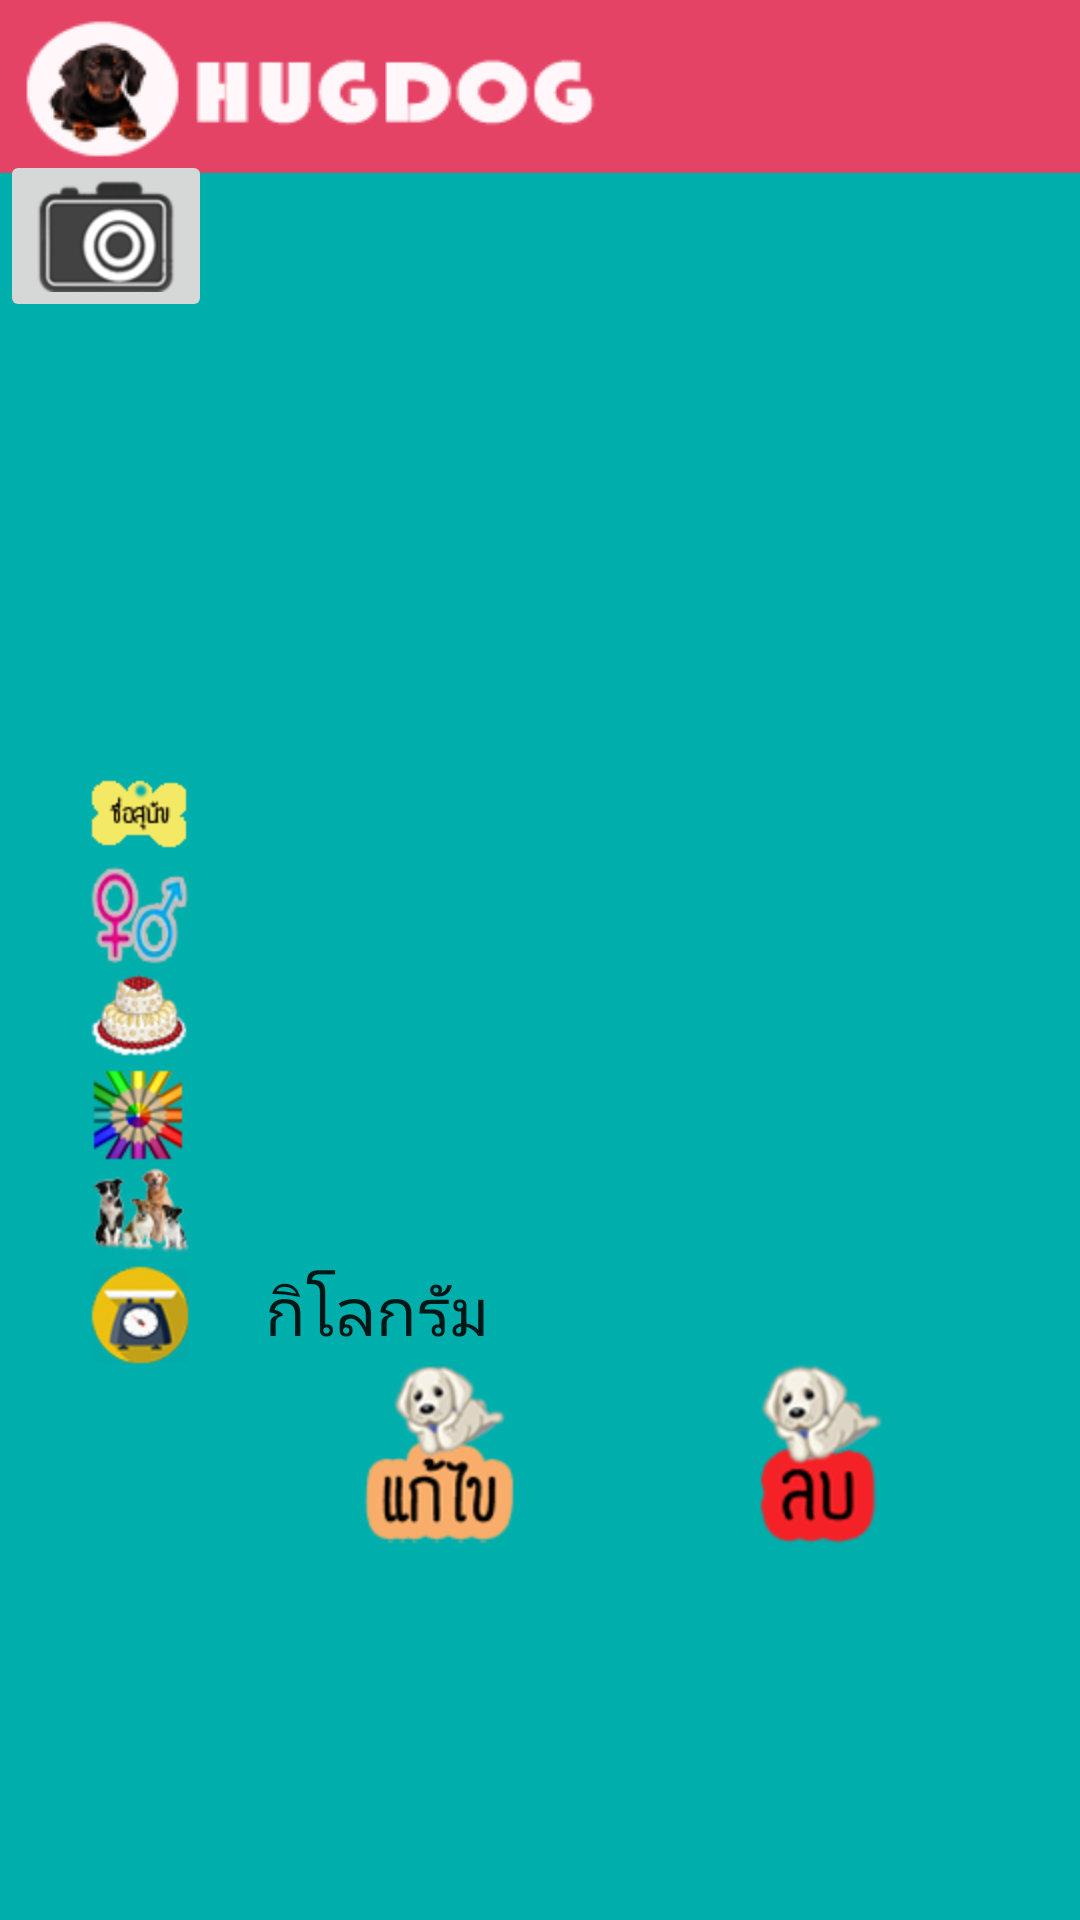

Screen size 1080w x 1920h. Icon name, then its center in pixels as [x,y]:
cake: [139,1015]
cam: [106,227]
dogs: [141,1210]
sex: [139,915]
weight: [140,1315]
